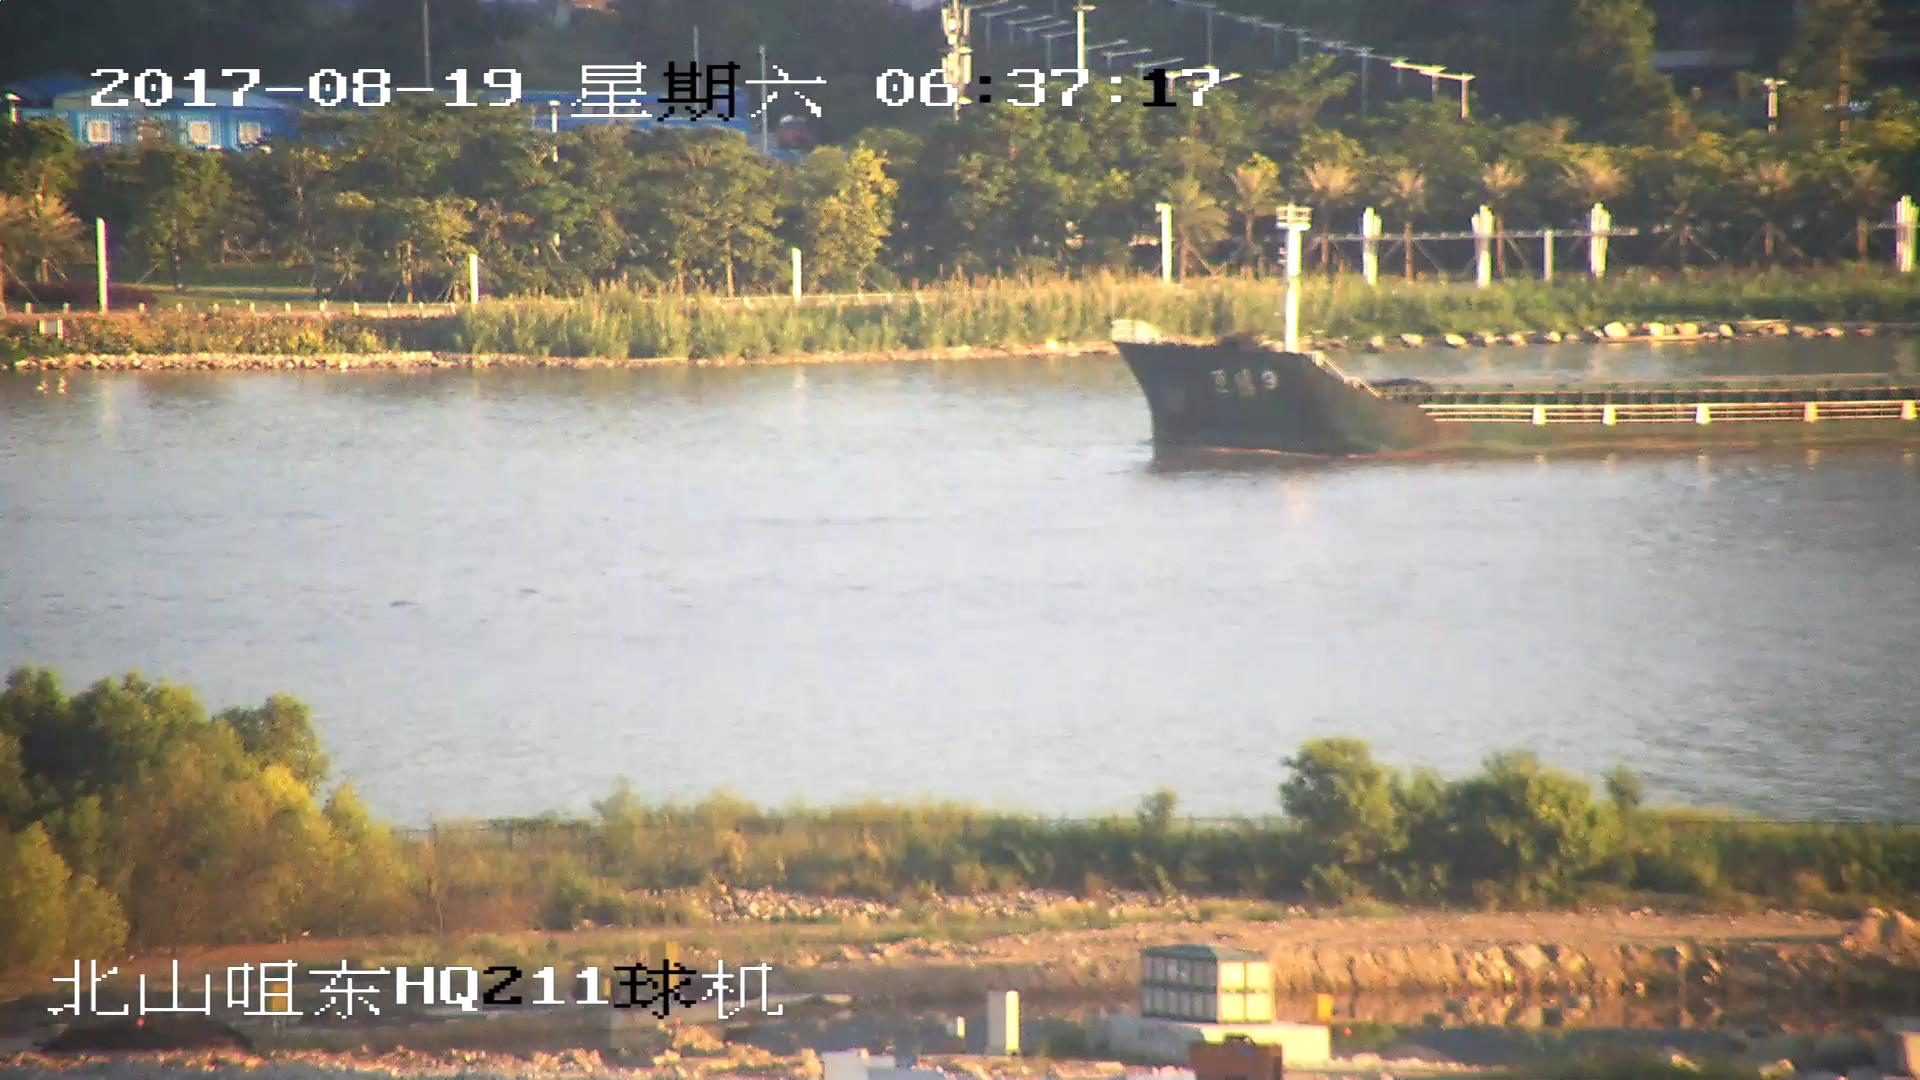general cargo ship: (1108, 224, 1920, 452)
